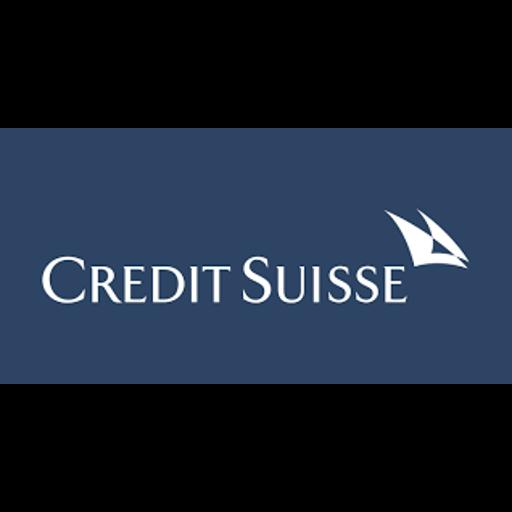Credit Suisse AG: (0, 128, 512, 384)
